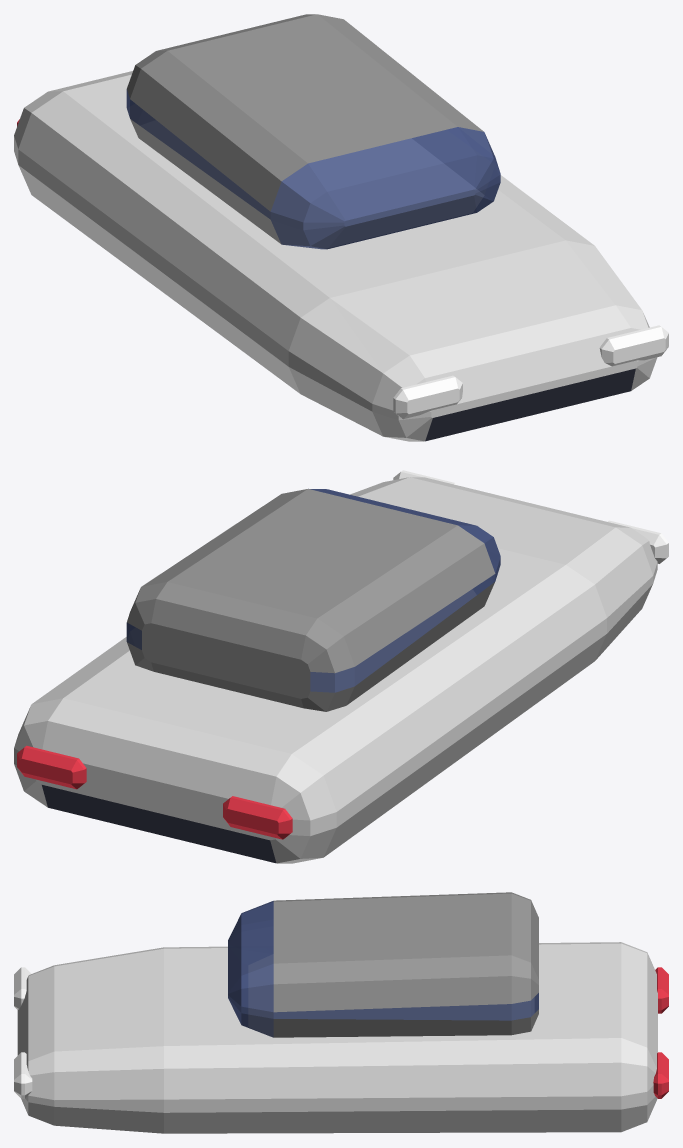
Rendered from traffic_ship.obj.
3 views of the same model, one above another, from view 1: azimuth 30°, elevation 25°; view 2: azimuth 150°, elevation 25°; view 3: azimuth 270°, elevation 25° (orthographic). The views are drawn at different scales.
Bounding box in the file's own units: 1.7 × 0.96 × 3.58.
